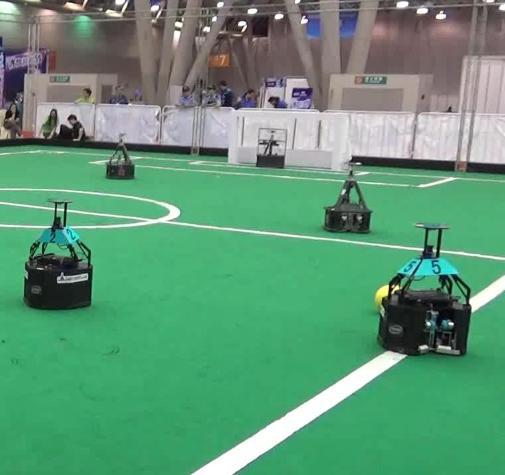robot: (375, 215, 473, 360), (18, 193, 93, 311), (321, 161, 376, 235)
